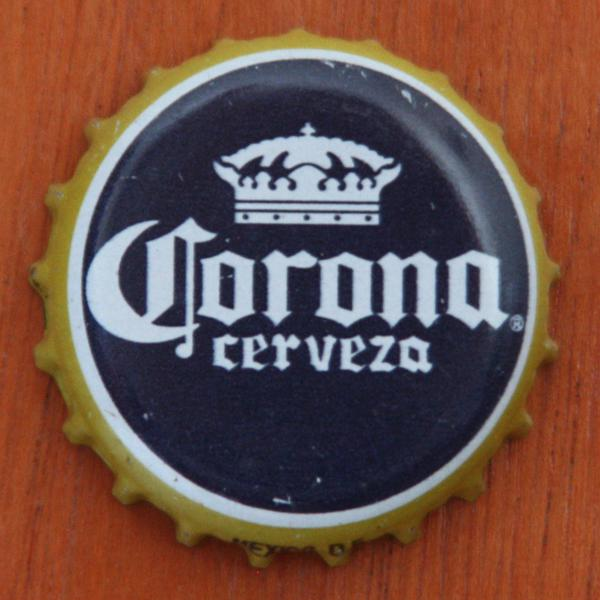corona: (27, 26, 570, 577)
